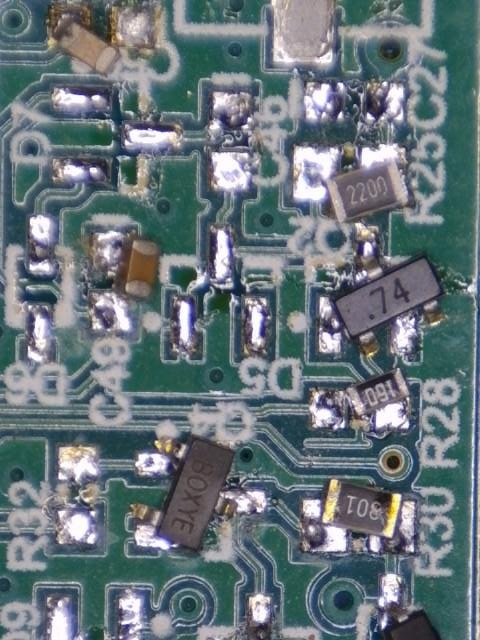pcb_defect: (318, 224, 448, 357), (131, 434, 266, 552), (292, 143, 411, 224), (299, 478, 417, 556), (52, 3, 164, 76), (89, 230, 161, 333), (309, 366, 411, 433), (376, 574, 443, 640)
